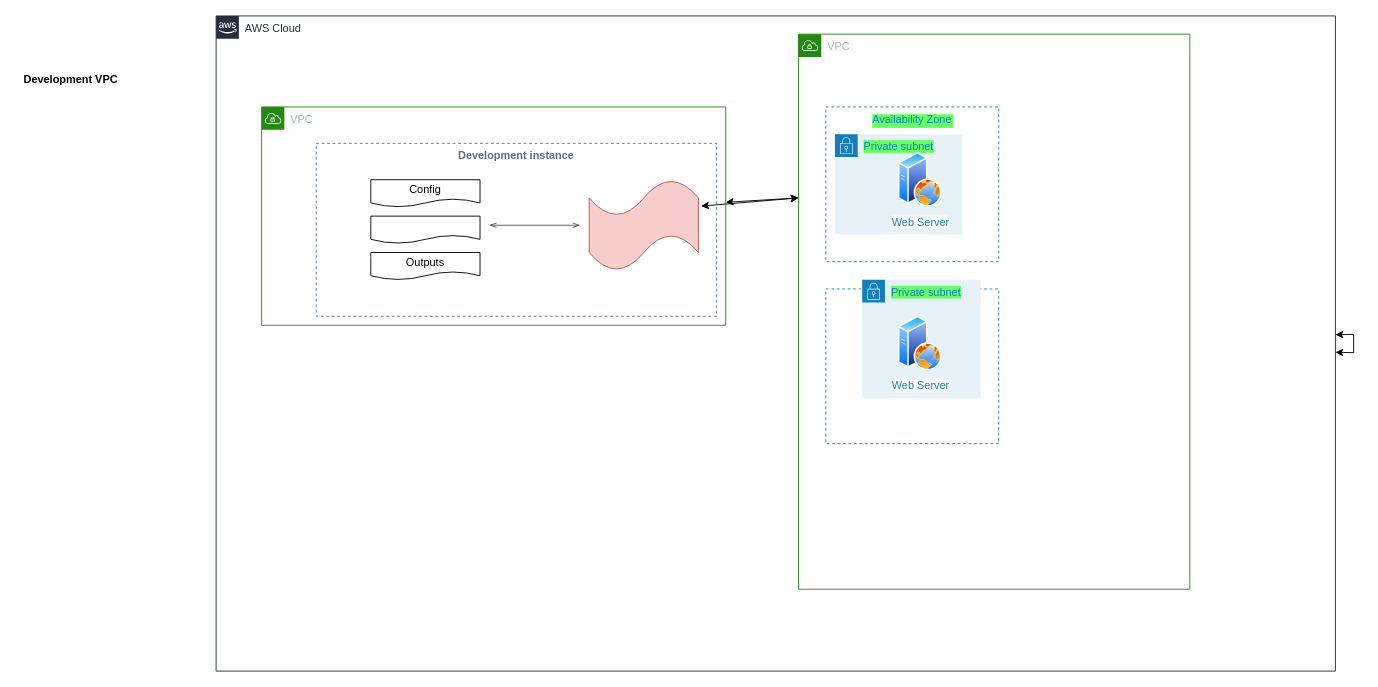
Some shapes in this 1378 by 687 pixel diagram are drawn without their labels. Here are the shapes that lost their labels. From the top down, the box of each, then its label:
(370, 215, 480, 243): Variables
(588, 179, 698, 271): Terraform
